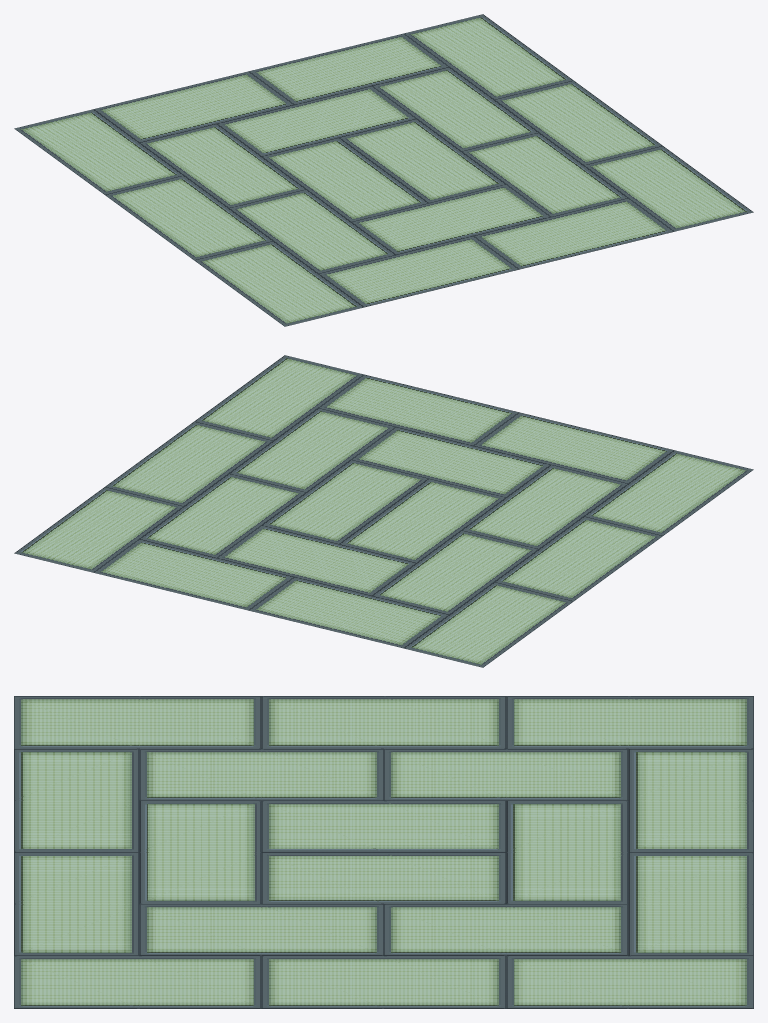
File: tatami_18jyo_01.fbx
3 views of the same model, one above another, from view 1: azimuth 30°, elevation 25°; view 2: azimuth 150°, elevation 25°; view 3: azimuth 270°, elevation 25° (orthographic). The views are drawn at different scales.
Parts seen in each view (by area): view 1: tatami_18jyo_01; view 2: tatami_18jyo_01; view 3: tatami_18jyo_01.
Boxes of the visible parts, box(x1,y1,x2,y2) form: tatami_18jyo_01: box(14, 14, 753, 326); tatami_18jyo_01: box(14, 355, 753, 667); tatami_18jyo_01: box(14, 696, 753, 1008).
Size of the model in its own units: 1180 by 0 by 1180.
